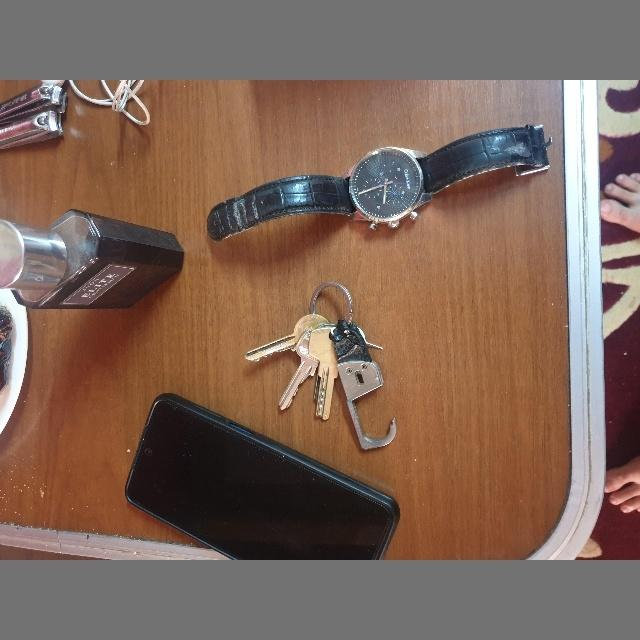Keys: (245, 282, 397, 450)
